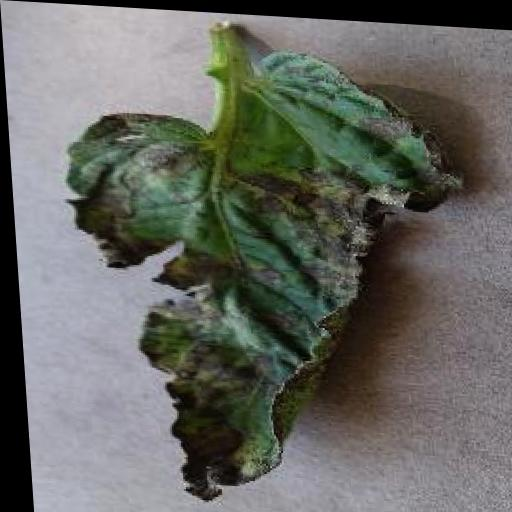Early Blight: (56, 38, 476, 510)
